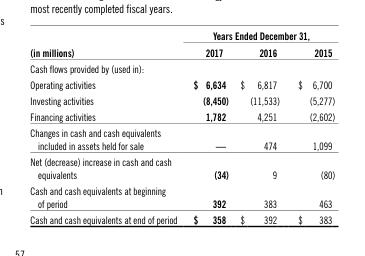table: (29, 28, 334, 225)
table column: (29, 28, 184, 225), (233, 28, 288, 225), (184, 28, 233, 225), (288, 28, 334, 225)
table column header: (29, 28, 334, 59)
table projected row header: (29, 59, 334, 75)
table row: (29, 124, 334, 153), (29, 153, 334, 182), (29, 182, 334, 211), (29, 75, 334, 92), (29, 43, 334, 59), (29, 59, 334, 75), (29, 92, 334, 108), (29, 108, 334, 124), (29, 28, 334, 43), (29, 211, 334, 225)
table spanning cell: (29, 28, 184, 59), (184, 28, 334, 43)
